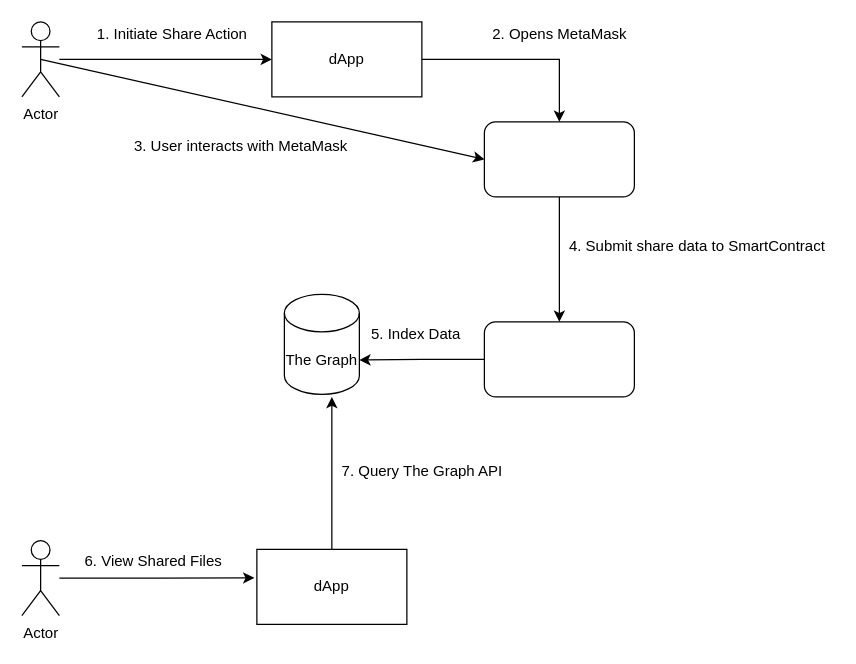
This 856x664 diagram has some shape labels left out. The centre of each missing label's shape, as x and y in pixels:
"MetaMask" belongs at (558,159).
"SmartContract" belongs at (558,359).
